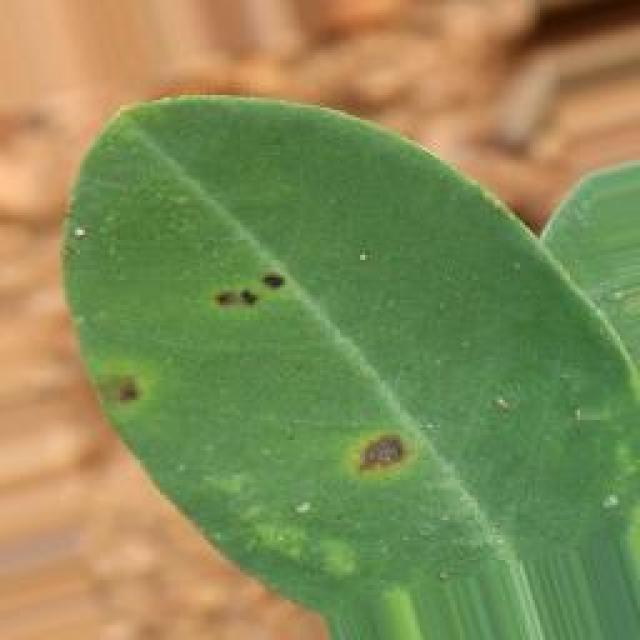Sigatoka: (187, 242, 321, 347), (106, 356, 166, 439), (361, 424, 423, 488)
